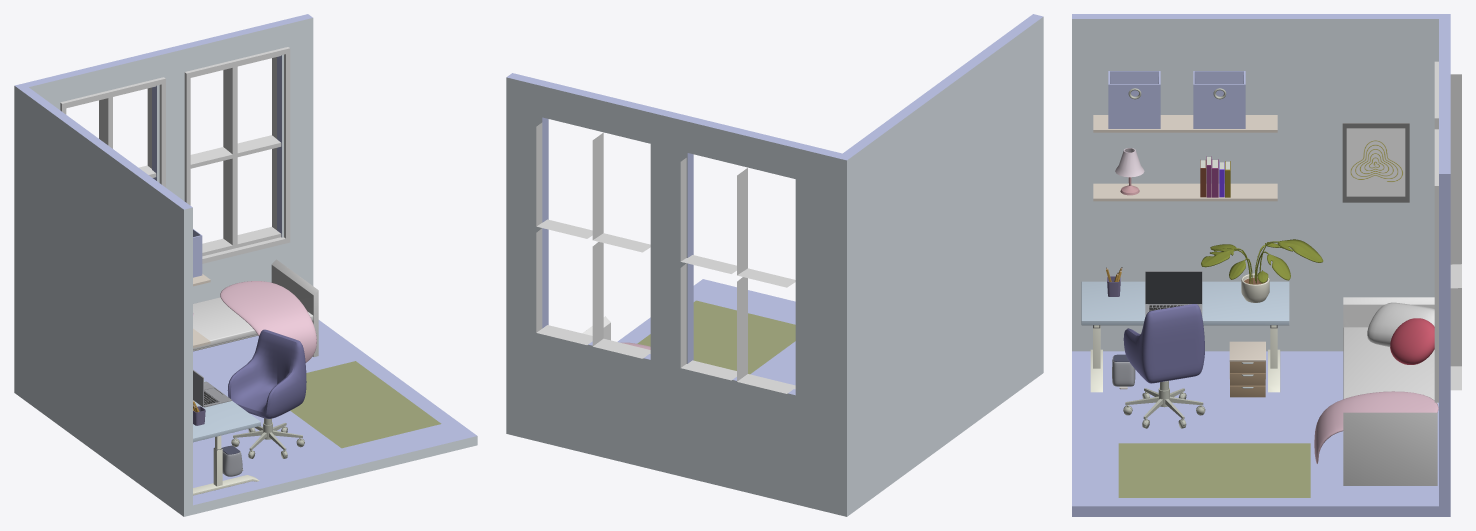
File: finalWebsiteRoom.glb
3 views of the same model, side by side, from view 1: azimuth 30°, elevation 25°; view 2: azimuth 150°, elevation 25°; view 3: azimuth 270°, elevation 25° (orthographic). The views are drawn at different scales.
Visible parts, largest first — view 1: Room, Window00, Rug, ChairSeat, Blanket, Window01, Cube, TableTop, Cube.001; view 2: Room, Window00, Window01, Rug; view 3: Room, Rug, Cube.001, TableTop, Poster, ChairSeat, Window00, Cube, Shelf0, Box00.001, Box00, Blanket (+14 smaller).
Boxes of the visible parts, x1,y1,x2,y2 form: Room: (14, 14, 477, 516); Window00: (184, 47, 290, 263); Rug: (290, 361, 441, 448); ChairSeat: (227, 329, 306, 418); Blanket: (220, 281, 316, 362); Window01: (60, 77, 165, 187); Cube: (193, 297, 313, 351); TableTop: (193, 380, 260, 442); Cube.001: (271, 259, 318, 356); Room: (506, 14, 1043, 516); Window00: (536, 122, 650, 358); Window01: (680, 158, 795, 393); Rug: (637, 300, 795, 374); Room: (1072, 14, 1450, 516); Rug: (1118, 443, 1310, 497); Cube.001: (1343, 297, 1437, 485); TableTop: (1081, 281, 1289, 325); Poster: (1342, 123, 1409, 202); ChairSeat: (1123, 304, 1204, 383); Window00: (1434, 129, 1461, 402); Cube: (1343, 327, 1437, 403); Shelf0: (1093, 183, 1277, 201); Box00.001: (1108, 71, 1160, 128); Box00: (1193, 71, 1245, 128); Blanket: (1314, 391, 1438, 463).
Bounding box in the file's own units: 25.41 × 25.41 × 26.18.
Materials: 37 (1 with a texture image).
